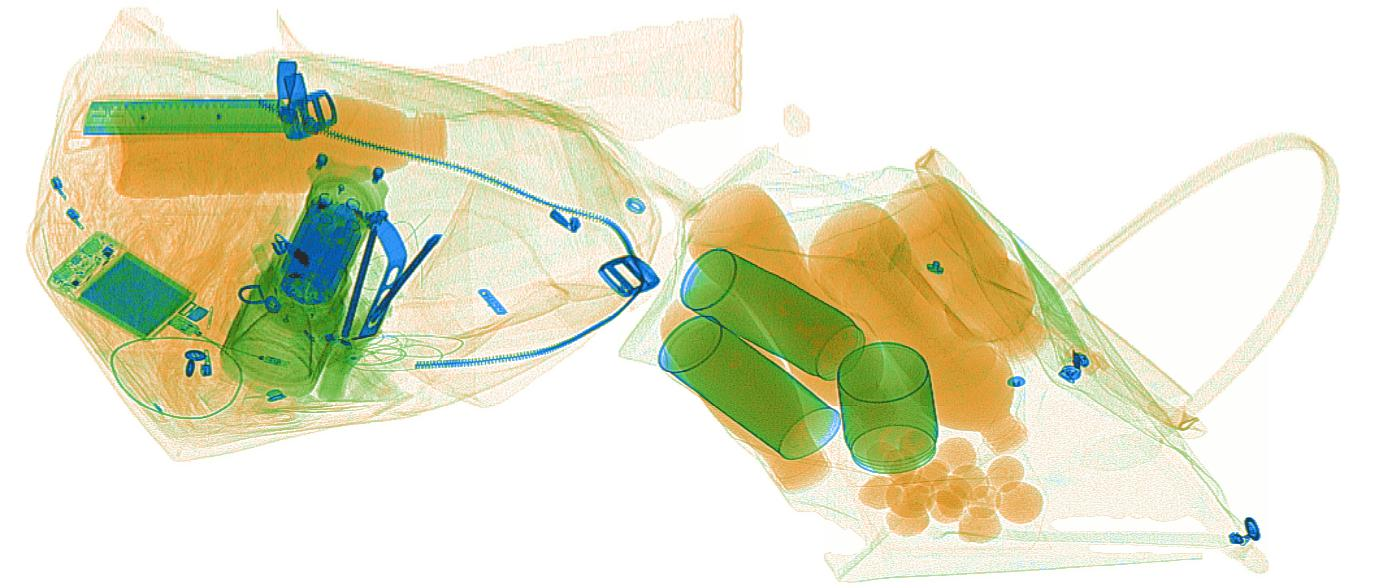battery: (278, 189, 363, 306)
knife: (63, 93, 317, 156)
